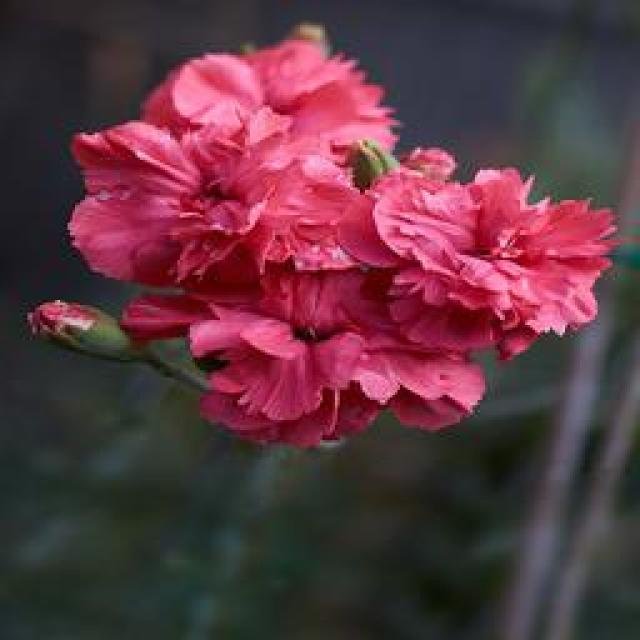carnation: (75, 54, 365, 313)
